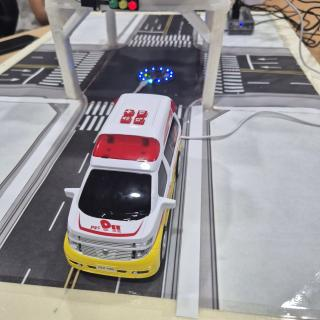Ambulance: (64, 93, 182, 279)
